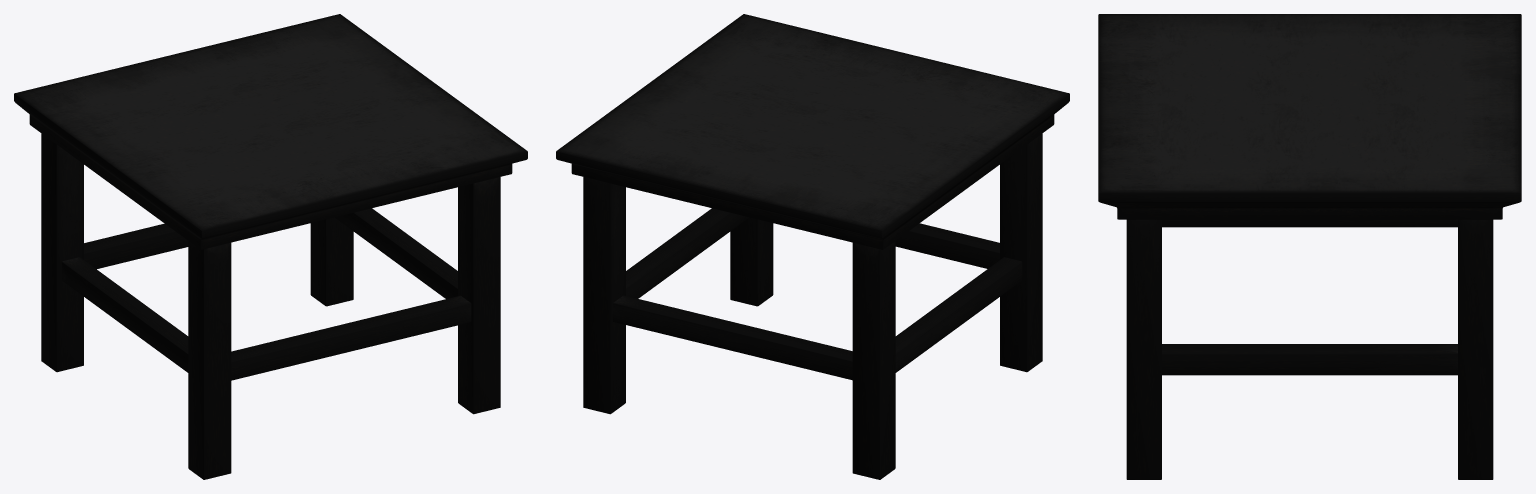
File: SmallTable.fbx
The picture shows the model from 3 angles, left to right: view 1: azimuth 30°, elevation 25°; view 2: azimuth 150°, elevation 25°; view 3: azimuth 270°, elevation 25°; orthographic projection. The views are drawn at different scales.
Parts seen in each view (by area): view 1: Large Table.001; view 2: Large Table.001; view 3: Large Table.001.
Part boxes in pixels (left/top/right/bottom): Large Table.001: left=14, top=14, right=527, bottom=479; Large Table.001: left=556, top=14, right=1069, bottom=479; Large Table.001: left=1098, top=14, right=1521, bottom=479.
Size of the model in its own units: 407 by 313 by 406.
